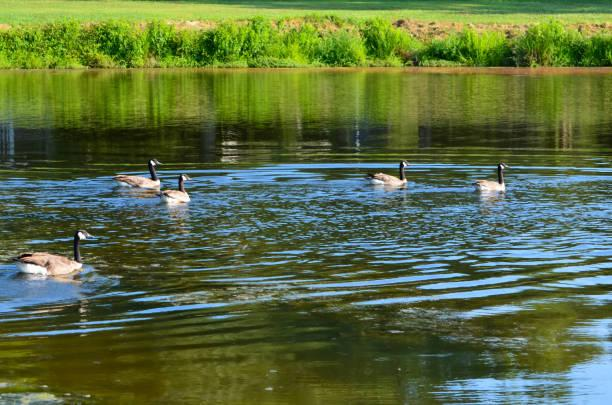Canadian-Goose: (15, 227, 91, 279), (114, 152, 163, 191), (366, 158, 410, 190), (473, 163, 508, 194), (162, 173, 192, 203)
